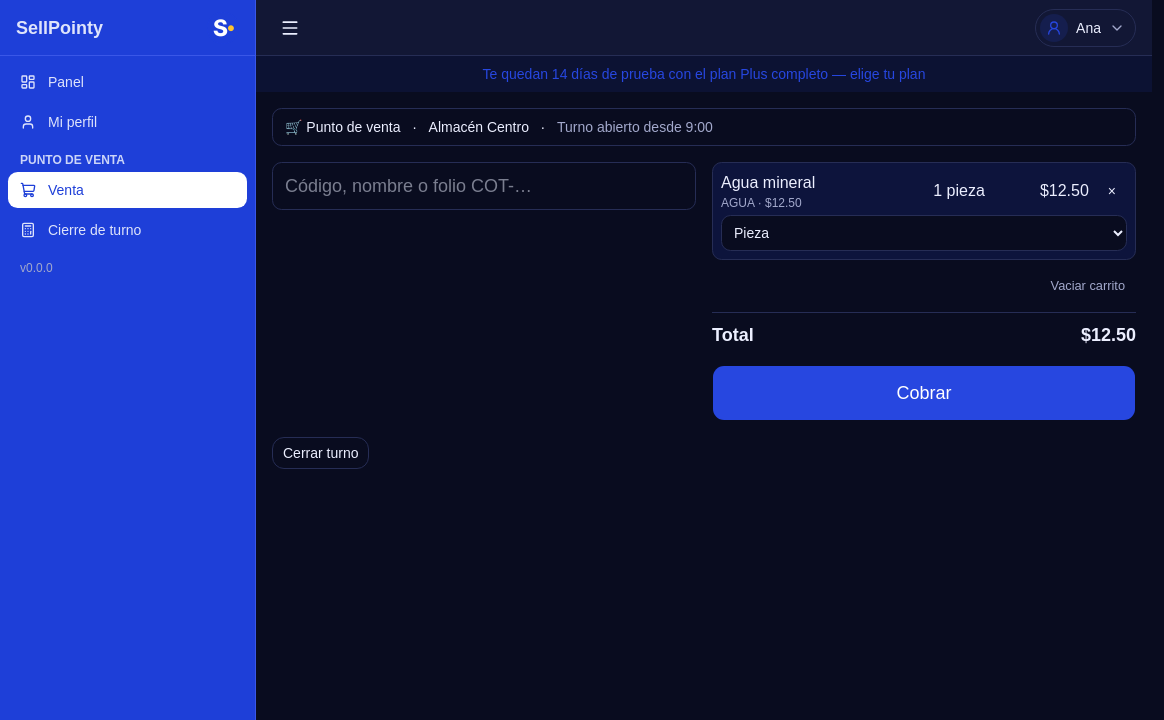
Test case: El carrito del POS (F4-CART) › el numpad (F4-CART-03) › tocar el cantidad abre el teclado
The image size is (1164, 720).
Check: the field named "Buscar" is shown, box [272, 162, 696, 210]
Check: the text "Agua mineral" is shown, box [721, 174, 815, 191]
What coordinates should you click on to do the following:
click the button "1 pieza"
I would click on:
 (959, 191)
Its box is [933, 179, 985, 203].
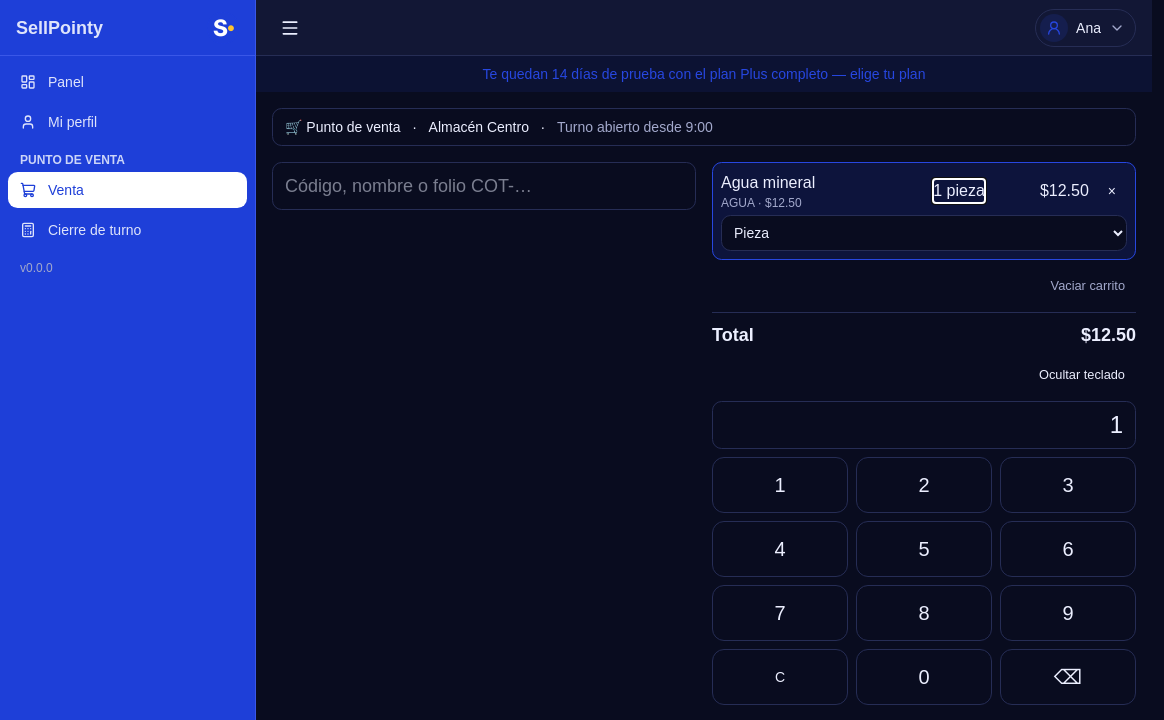
Check: the element with test id "numpad" is shown, box [712, 401, 1136, 705]
